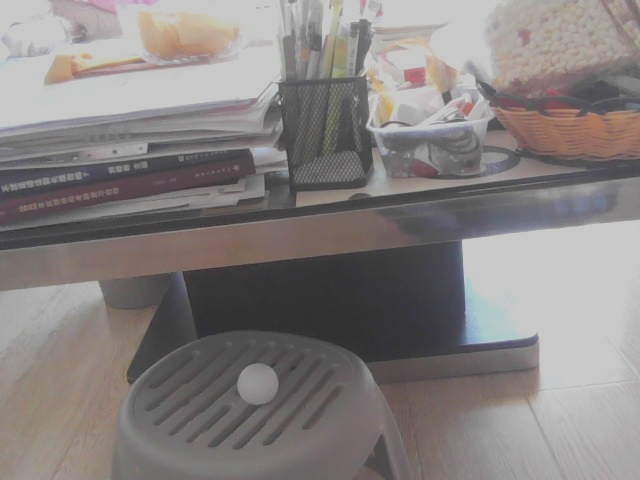ball: (239, 361, 278, 406)
